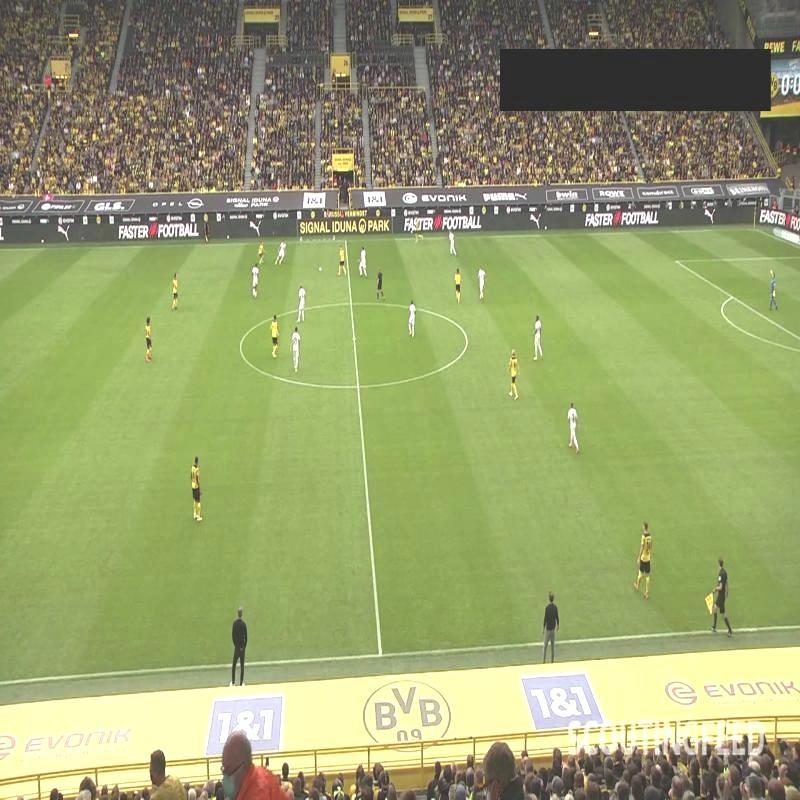1: (748, 223, 762, 237)
10: (726, 290, 740, 304)
13: (338, 234, 352, 247)
14: (342, 295, 358, 311)
15: (350, 378, 366, 394)
16: (372, 644, 390, 664)
9: (669, 255, 684, 269)
c: (459, 329, 474, 347), (234, 338, 246, 354)
